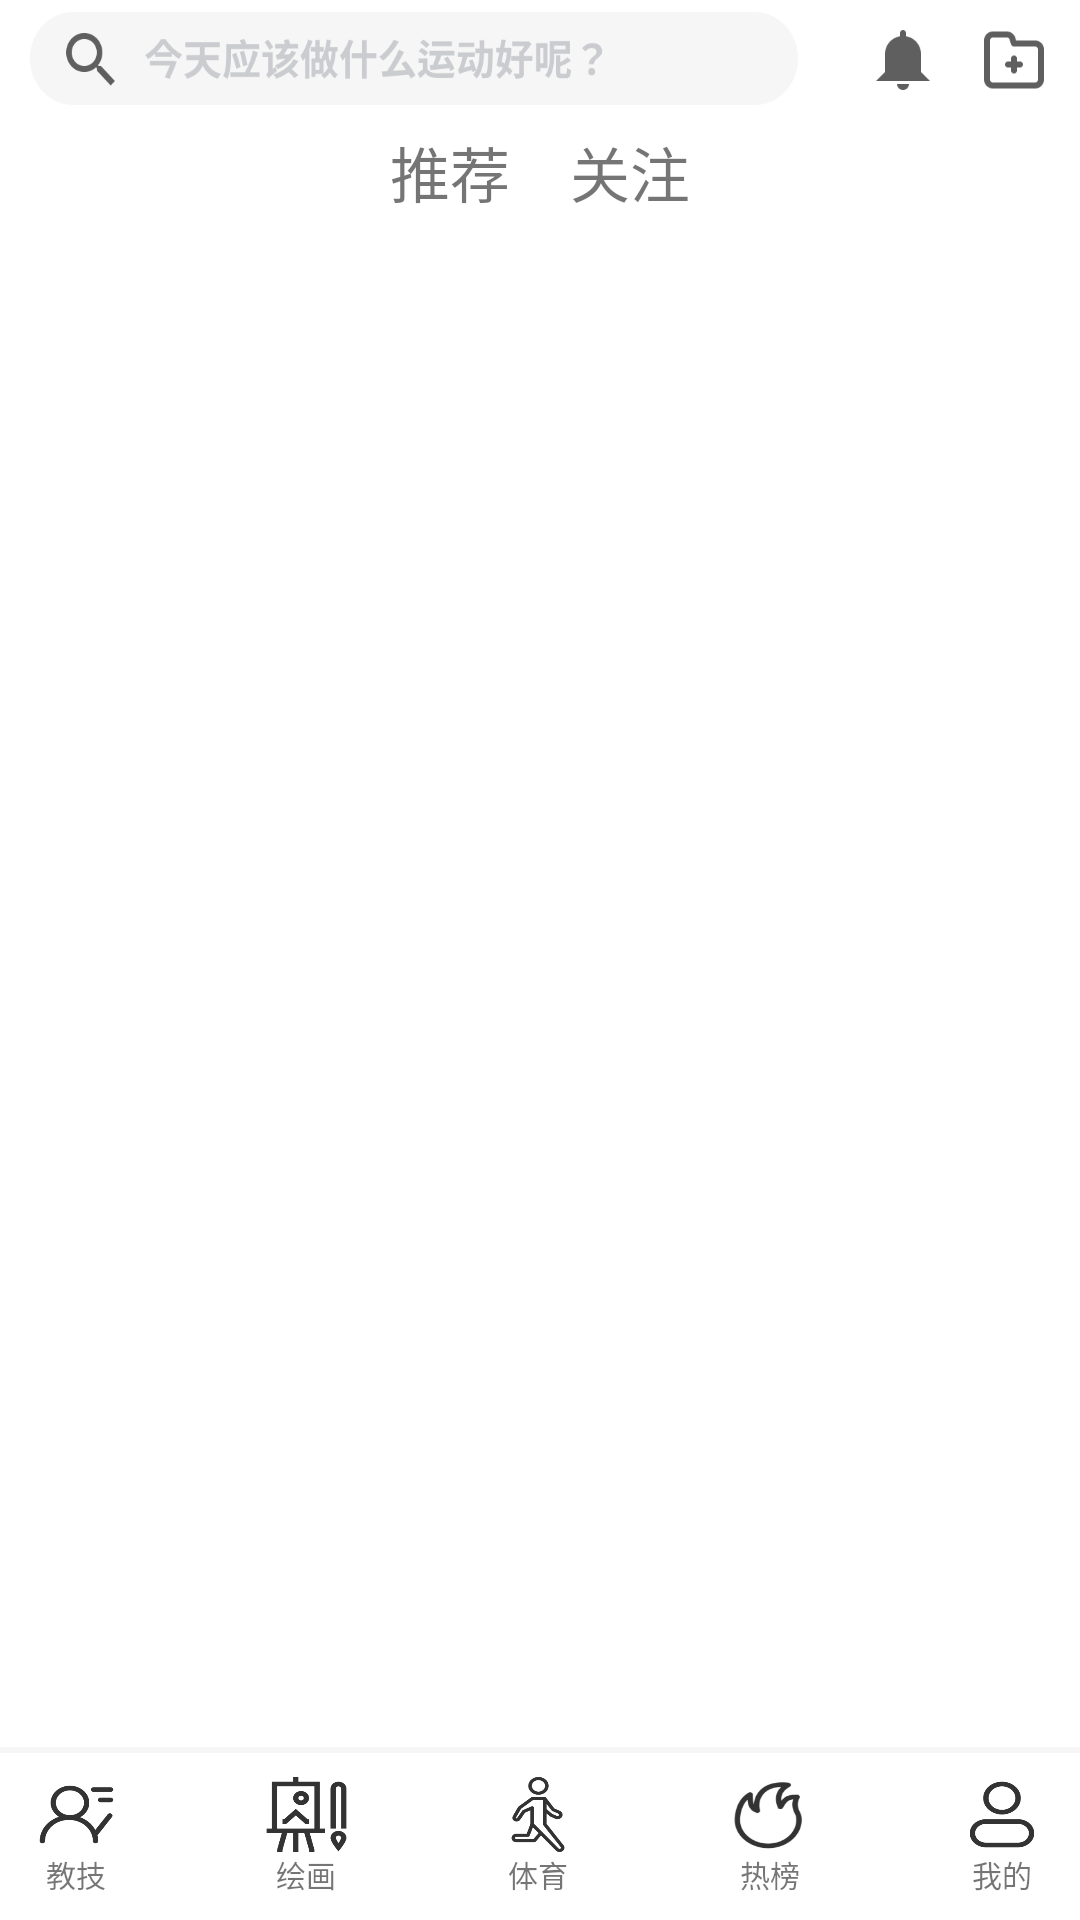

Icon click points for this 1080 x 1920 phone screenshot, format [x,y]:
add folder: [1014,60]
bell: [903,60]
jiaoshi: [76,1815]
yonghu: [1002,1814]
